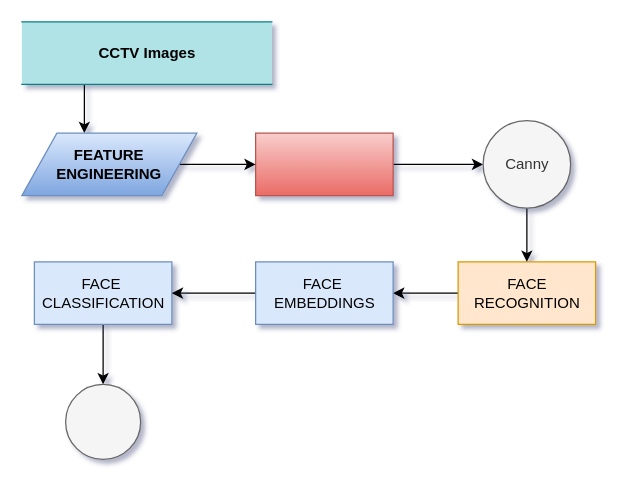
Image size: 625x489. Some labels were removed from this diagram. The shapes that lost their labels are listed below. From the top down, each one's centre as x and y in pixels, then its label:
At pixel 323 164: "DRIFT DETECTION".
At pixel 102 421: "Output".
